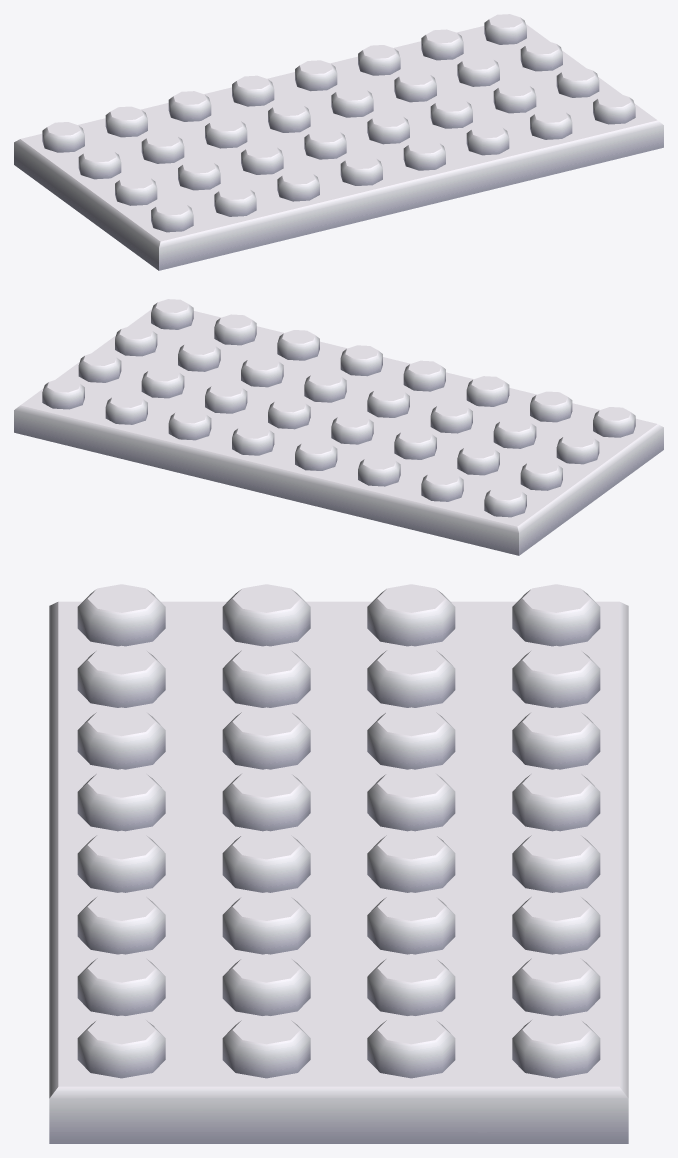
Rendered from round-hq-plate-4x8.glb.
3 renders of one model, top to bottom at view 1: azimuth 30°, elevation 25°; view 2: azimuth 150°, elevation 25°; view 3: azimuth 270°, elevation 25°, orthographic. The views are drawn at different scales.
Visible parts, largest first — view 1: round-hq-plate-4x8; view 2: round-hq-plate-4x8; view 3: round-hq-plate-4x8.
Part boxes in pixels (x1,y1,x2,y2): round-hq-plate-4x8: (14, 14, 663, 270); round-hq-plate-4x8: (14, 299, 663, 555); round-hq-plate-4x8: (49, 584, 628, 1143).
Size of the model in its own units: 0.636 by 0.05 by 0.316.
1 material, 1 textured.
